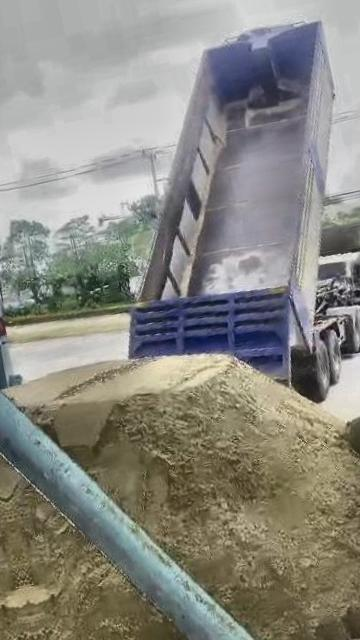sand: (11, 357, 360, 640), (1, 461, 217, 640), (347, 384, 360, 504)
